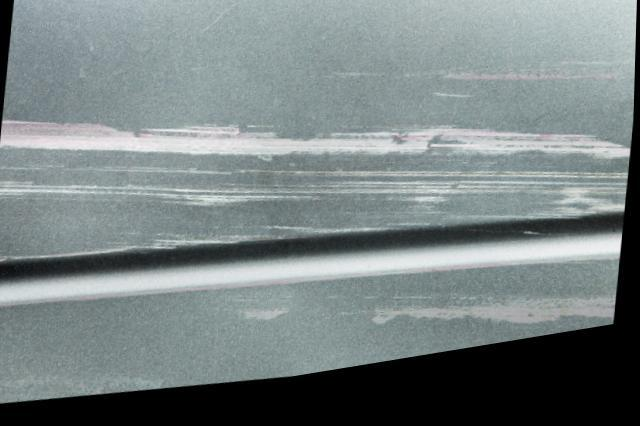scratch: (0, 116, 633, 266), (213, 302, 619, 347), (296, 70, 636, 116)
